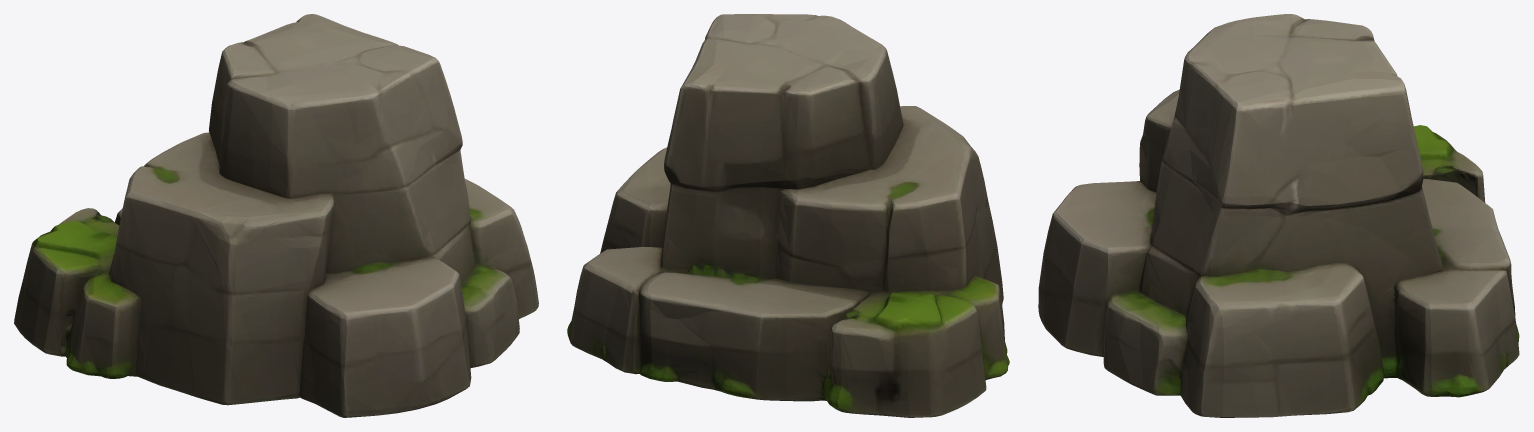
Rendered from rocks.glb.
3 renders of one model, left to right at view 1: azimuth 30°, elevation 25°; view 2: azimuth 150°, elevation 25°; view 3: azimuth 270°, elevation 25°, orthographic. The views are drawn at different scales.
Visible parts, largest first — view 1: geometry_0; view 2: geometry_0; view 3: geometry_0.
Boxes of the visible parts, <box> form: geometry_0: <box>14,14,538,417</box>; geometry_0: <box>567,14,1009,417</box>; geometry_0: <box>1038,14,1519,417</box>.
Bounding box in the file's own units: 0.9979 × 0.6031 × 0.9452.
Materials: 1 (1 with a texture image).
